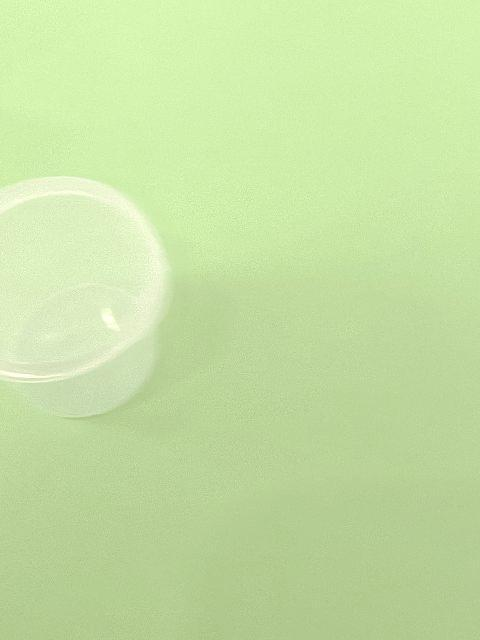plasticcontainer: (0, 170, 174, 426)
